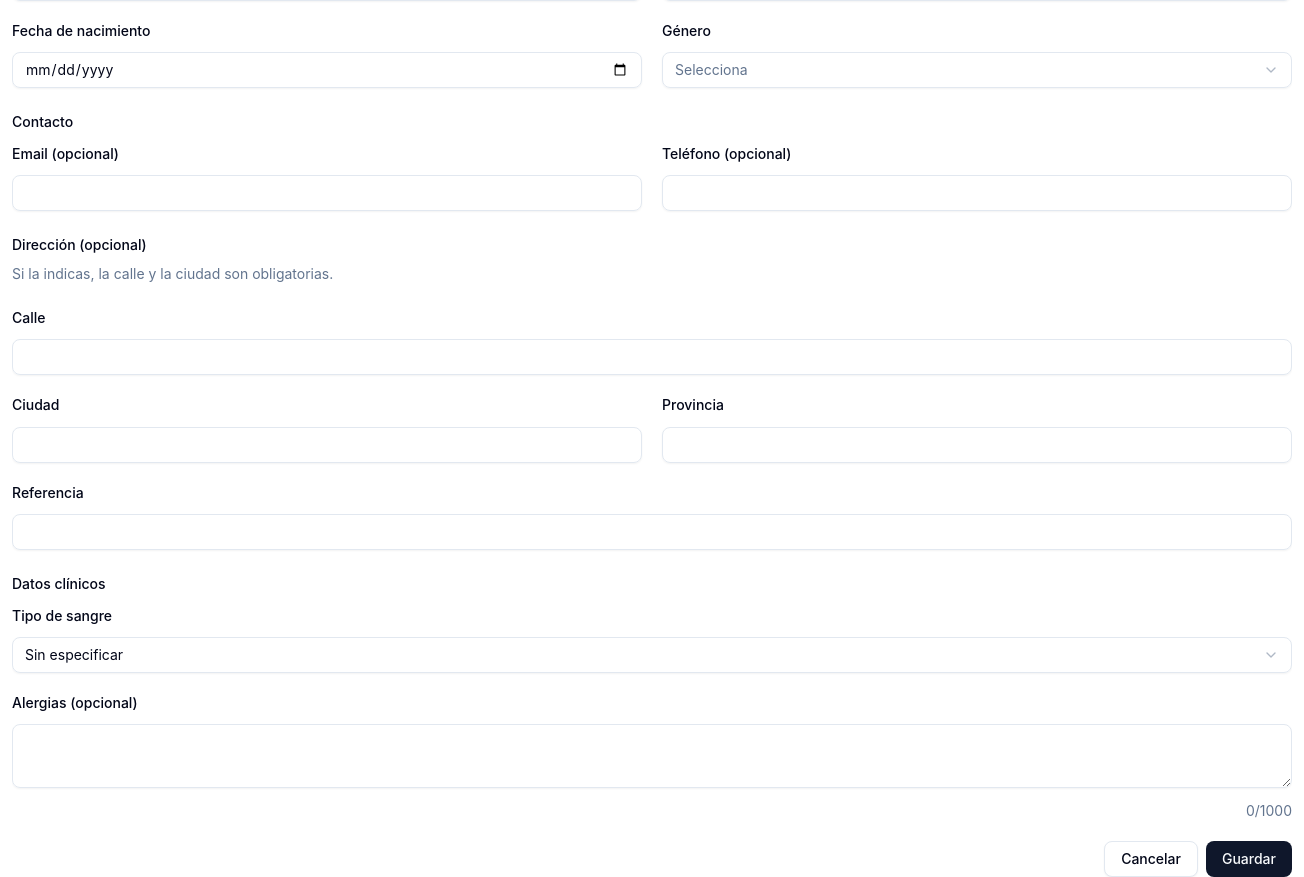
PatientForm › shows the required messages and does not submit an empty form
This screenshot has width=1304, height=877.
(page scrolled)
Click the button "Guardar" at (1249, 859), box [1206,841,1292,876]
(page scrolled)
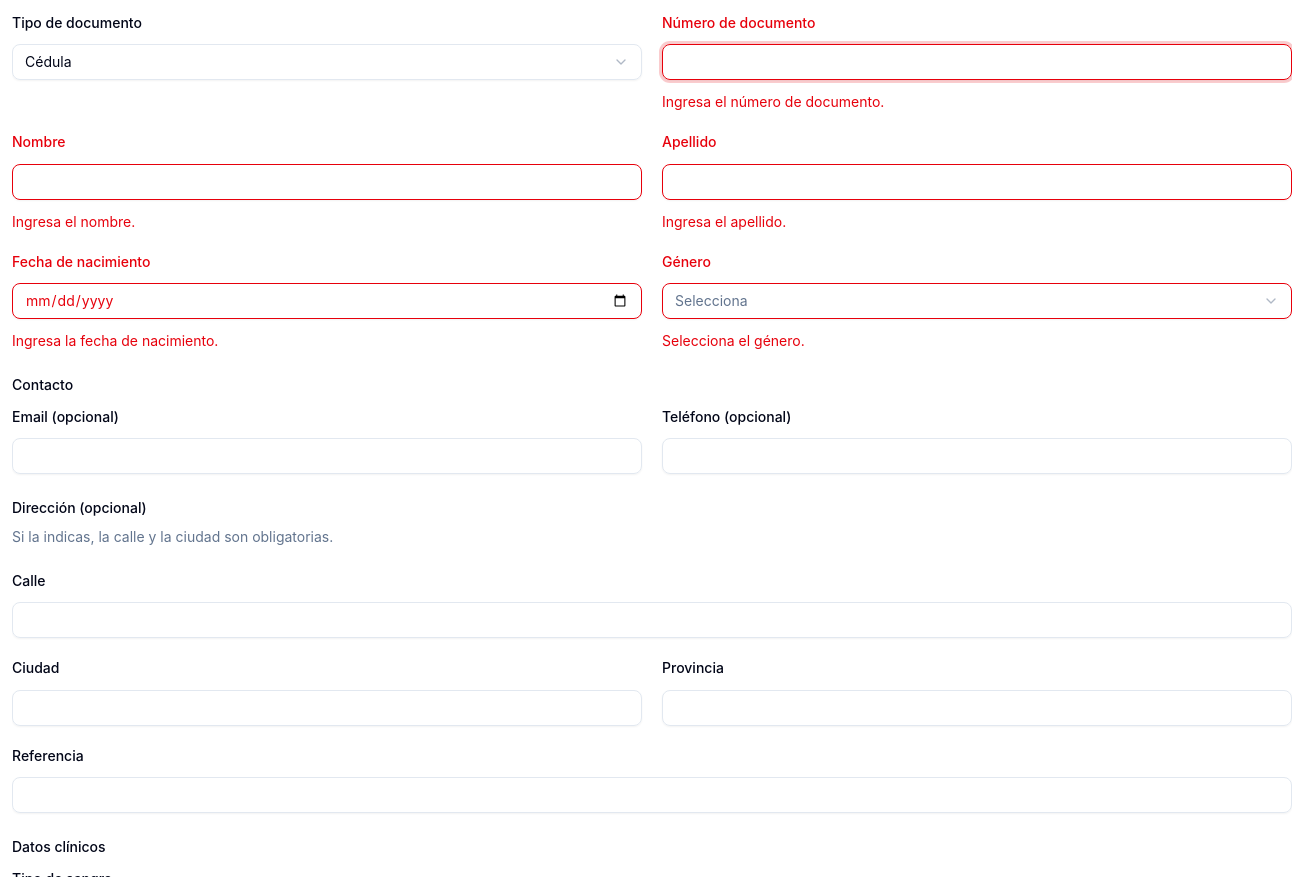
expect the text "Ingresa el número de documento." is shown: met, box [662,93,884,110]
expect the text "Ingresa el nombre." is shown: met, box [12,212,135,230]
expect the text "Ingresa el apellido." is shown: met, box [662,212,786,230]
